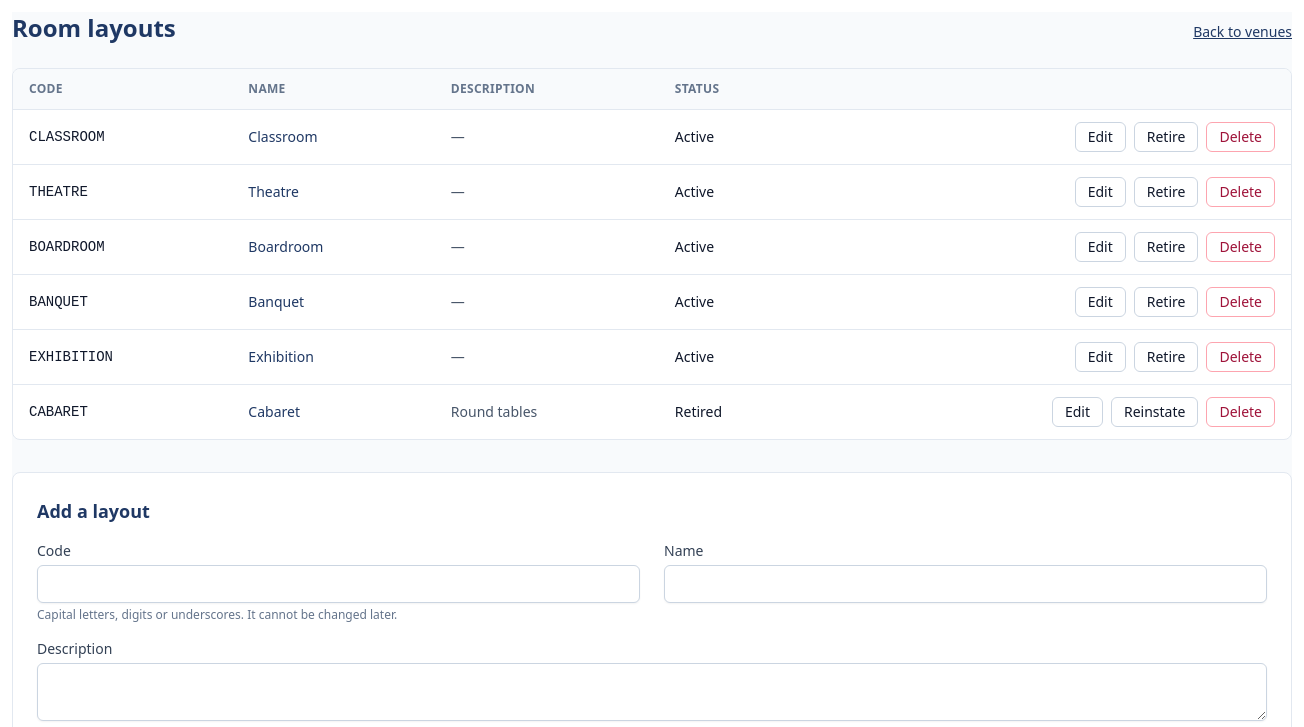
Scenario: RoomLayouts (SCRUM-91) › AC3: a layout in use is not deleted, says where it is used and offers retiring
Click the button with aria-label "Delete Theatre": (1241, 192) x1=1206 y1=177 x2=1275 y2=207
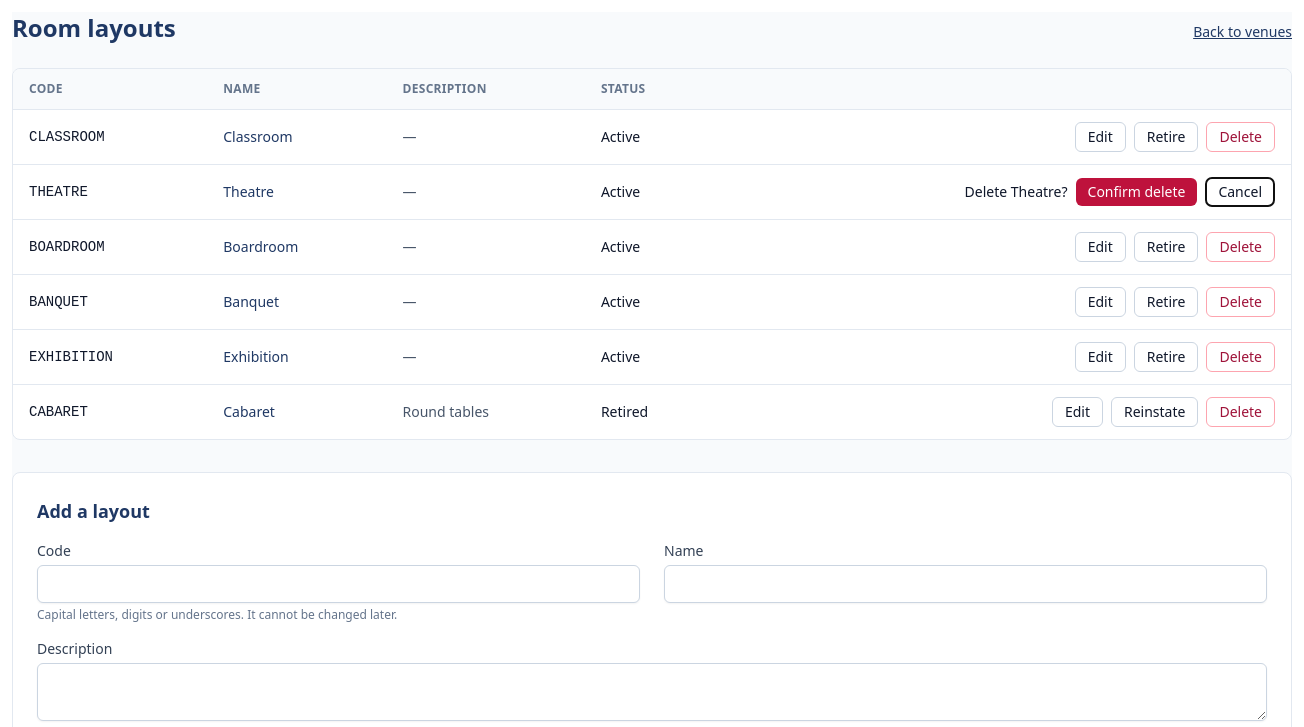
Click the button "Confirm delete": (1136, 192) x1=1076 y1=178 x2=1197 y2=206
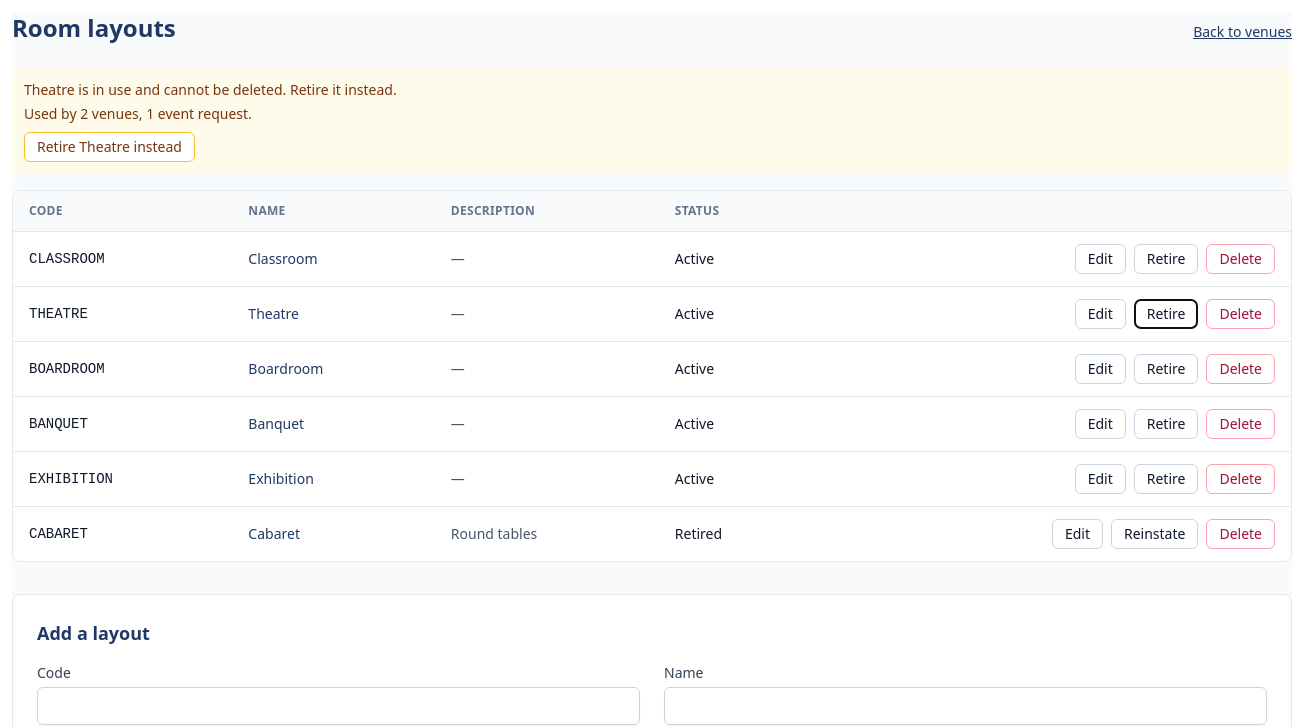
expect the message shows "Theatre is in use and cannot be deleted.": met, box x1=24 y1=80 x2=397 y2=99
expect the message shows "Used by 2 venues, 1 event request.": met, box x1=12 y1=68 x2=1292 y2=174
Click the button "Retire Theatre instead": (110, 147) x1=24 y1=132 x2=195 y2=162
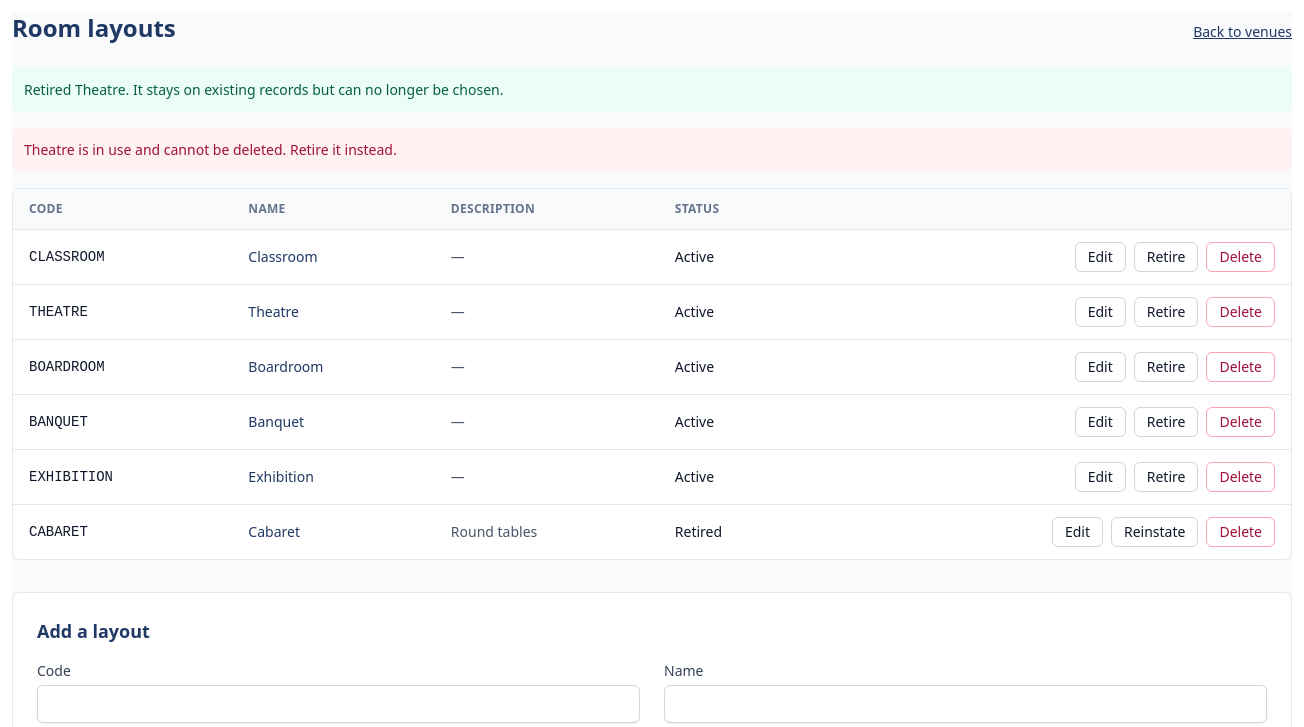
expect the message "Retired Theatre. It stays on existing records but can no longer be chosen." is shown: met, box x1=12 y1=68 x2=1292 y2=112
